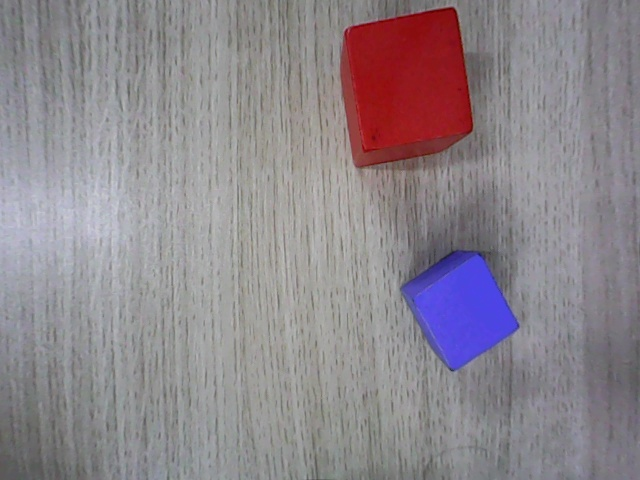upside of big cube: (344, 7, 474, 151)
upside of small cube: (411, 252, 520, 372)
